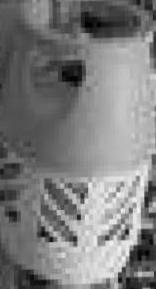cylinder: (1, 1, 156, 289)
